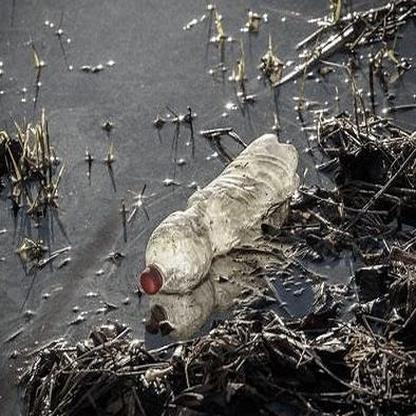plastic bottle: (139, 133, 302, 293)
